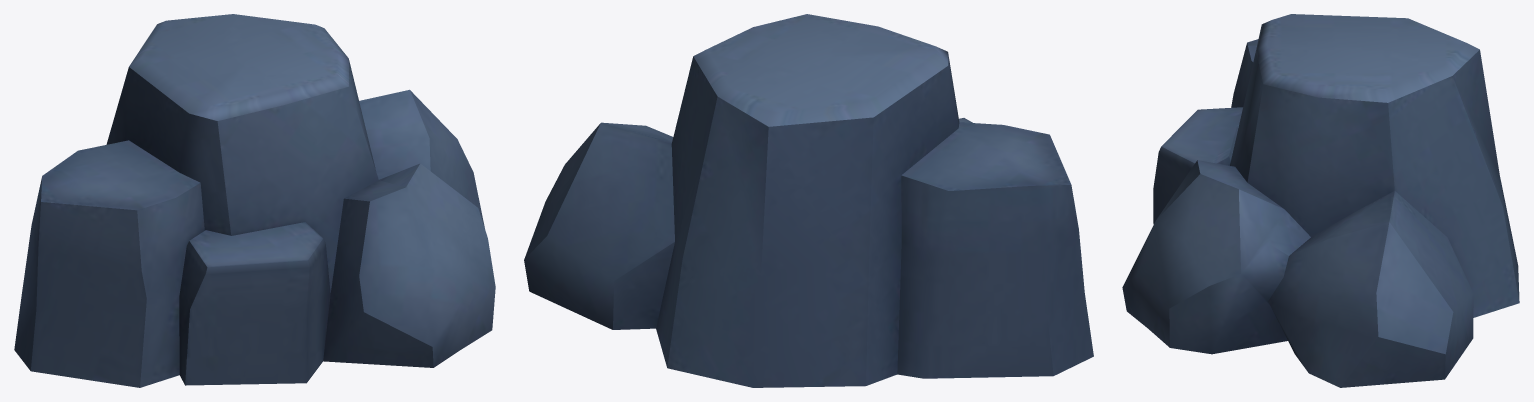
3 renders of one model, left to right at view 1: azimuth 30°, elevation 25°; view 2: azimuth 150°, elevation 25°; view 3: azimuth 270°, elevation 25°, orthographic. The views are drawn at different scales.
Visible parts, largest first — view 1: yanshi_02; view 2: yanshi_02; view 3: yanshi_02.
Boxes of the visible parts, box(x1,y1,x2,y2) form: yanshi_02: box(14, 14, 495, 387); yanshi_02: box(524, 14, 1093, 387); yanshi_02: box(1122, 14, 1519, 387).
Size of the model in its own units: 3.48 by 1.67 by 2.62.
Materials: 1 (1 with a texture image).
